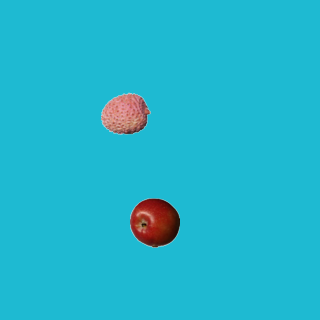Apple Braeburn: (129, 197, 179, 247)
Lychee: (100, 88, 150, 138)
